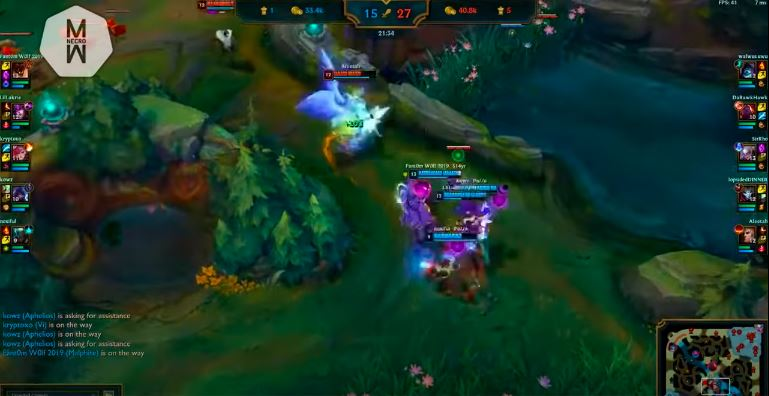bar: (432, 188, 492, 203), (406, 166, 465, 181), (322, 68, 379, 83), (423, 228, 482, 241), (445, 181, 500, 191), (195, 1, 252, 9)
